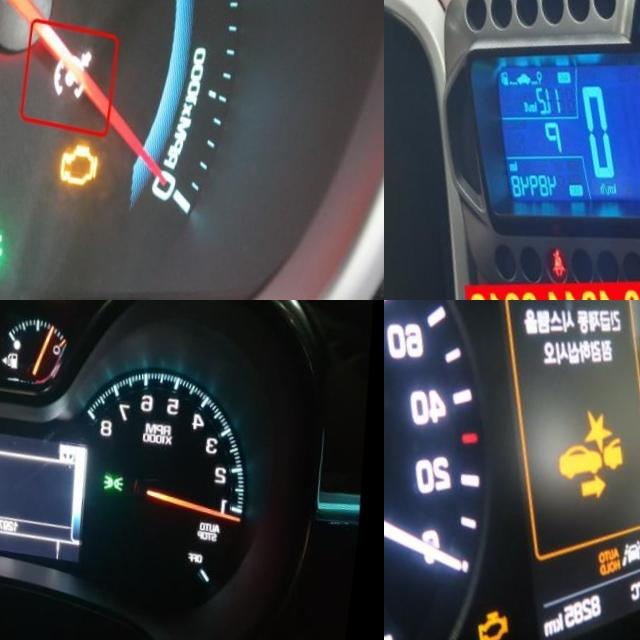LaneCenteringOff: (629, 519, 640, 556)
SideLamp: (0, 219, 17, 264), (111, 455, 134, 475)
